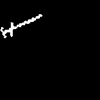double_crochet: (1, 14, 41, 37)
